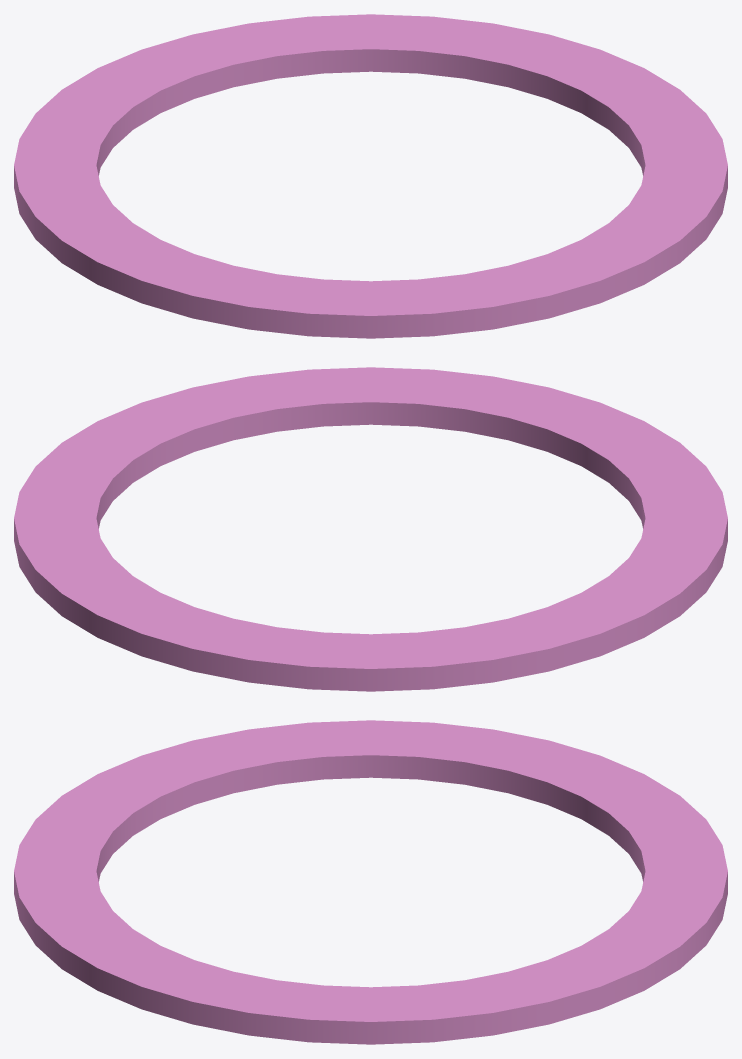
File: SelectionCircle.obj
3 views of the same model, one above another, from view 1: azimuth 30°, elevation 25°; view 2: azimuth 150°, elevation 25°; view 3: azimuth 270°, elevation 25° (orthographic).
Parts seen in each view (by area): view 1: Cylinder001; view 2: Cylinder001; view 3: Cylinder001.
Boxes of the visible parts, x1=… form: Cylinder001: x1=14, y1=14, x2=727, y2=338; Cylinder001: x1=14, y1=367, x2=727, y2=691; Cylinder001: x1=14, y1=720, x2=727, y2=1044.
Size of the model in its own units: 81.28 by 2.84 by 81.28.
